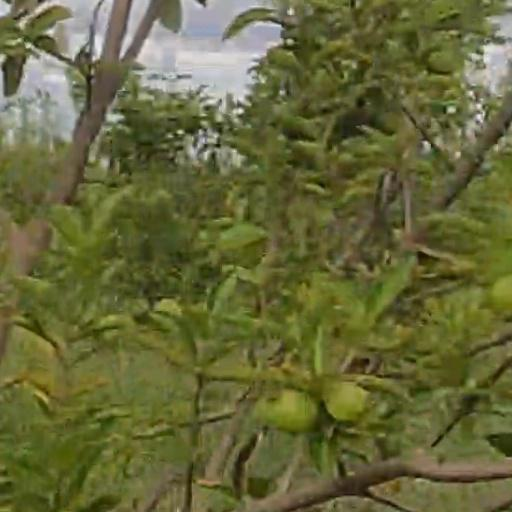acerola: (257, 391, 313, 427), (330, 386, 363, 419)
